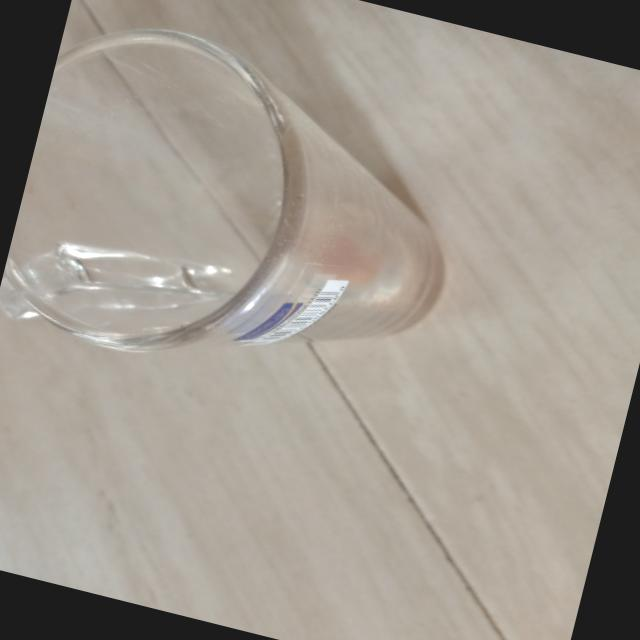glass-VX4N: (0, 5, 488, 427)
